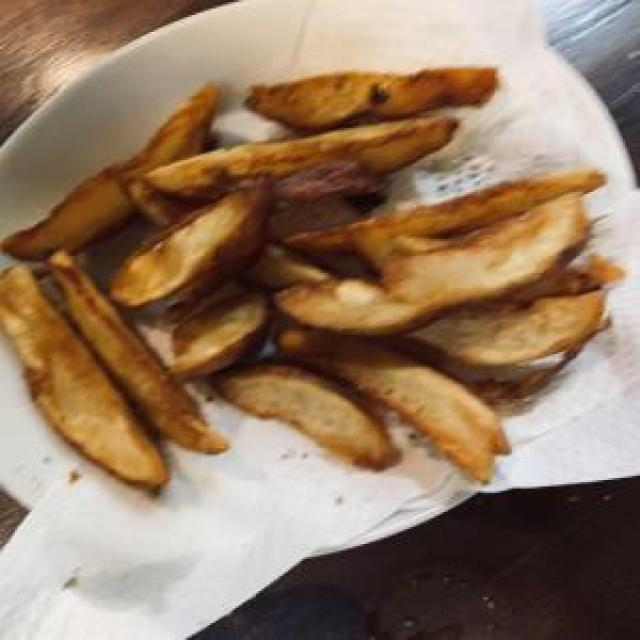French Fries: (33, 46, 620, 494)
